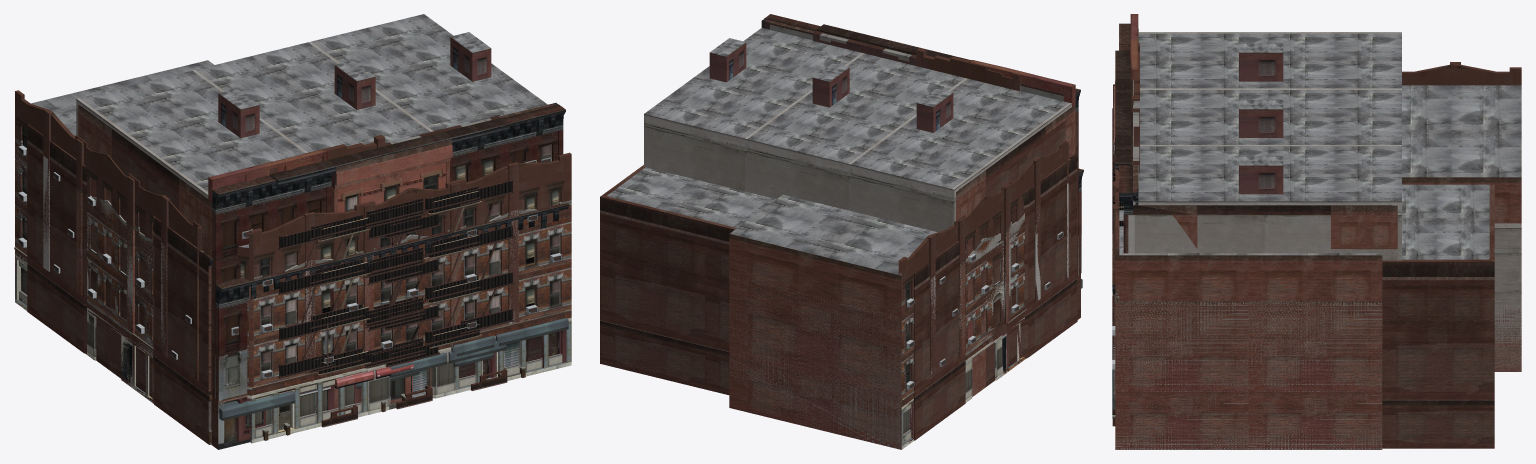
File: brownstones.glb
3 views of the same model, side by side, from view 1: azimuth 30°, elevation 25°; view 2: azimuth 150°, elevation 25°; view 3: azimuth 270°, elevation 25° (orthographic). The views are drawn at different scales.
Parts seen in each view (by area): view 1: Brownstone_FlatFacade_9, Brownstone_Lowrise_1, Brownstone_Lowrise_1_B, Brownstone_Harlem_1_B, Brownstone_FlatFacade_6, Brownstone_FlatFacade_1, Brownstone_FlatFacade_6_B, Brownstone_FlatFacade_4, Brownstone_Lowrise_1_C, Brownstone_FlatFacade_2, Brownstone_FlatFacade_3, Brownstone_FlatFacade_8 (+8 smaller); view 2: Brownstone_Lowrise_1_B, Brownstone_FlatFacade_9, Brownstone_Harlem_1_B, Brownstone_Lowrise_1_C, Brownstone_FlatFacade_1, Brownstone_Lowrise_1, Brownstone_FlatFacade_6, Brownstone_Harlem_1, Brownstone_FlatFacade_5, Brownstone_FlatFacade_3, Brownstone_FlatFacade_2, Brownstone_FlatFacade_6_B; view 3: Brownstone_FlatFacade_9, Brownstone_Lowrise_1, Brownstone_Lowrise_1_B, Brownstone_Harlem_1_B, Brownstone_Lowrise_1_C, Brownstone_FlatFacade_1, Brownstone_FlatFacade_6, Brownstone_FlatFacade_3, Brownstone_FlatFacade_5.
Boxes of the visible parts, x1,y1,x2,y2 form: Brownstone_FlatFacade_9: [76, 14, 547, 418]; Brownstone_Lowrise_1: [15, 137, 571, 443]; Brownstone_Lowrise_1_B: [14, 60, 571, 442]; Brownstone_Harlem_1_B: [27, 124, 525, 444]; Brownstone_FlatFacade_6: [81, 104, 568, 447]; Brownstone_FlatFacade_1: [78, 32, 557, 436]; Brownstone_FlatFacade_6_B: [215, 203, 569, 449]; Brownstone_FlatFacade_4: [331, 139, 452, 408]; Brownstone_Lowrise_1_C: [14, 139, 571, 438]; Brownstone_FlatFacade_2: [317, 105, 548, 375]; Brownstone_FlatFacade_3: [270, 117, 509, 368]; Brownstone_FlatFacade_8: [365, 197, 424, 365]; Brownstone_Lowrise_1_B: [729, 140, 1068, 449]; Brownstone_FlatFacade_9: [644, 28, 1071, 232]; Brownstone_Harlem_1_B: [600, 153, 1078, 440]; Brownstone_Lowrise_1_C: [729, 183, 1068, 449]; Brownstone_FlatFacade_1: [709, 19, 1075, 396]; Brownstone_Lowrise_1: [901, 218, 1063, 449]; Brownstone_FlatFacade_6: [764, 14, 1080, 388]; Brownstone_Harlem_1: [705, 222, 734, 394]; Brownstone_FlatFacade_5: [813, 30, 1020, 91]; Brownstone_FlatFacade_3: [816, 24, 970, 60]; Brownstone_FlatFacade_2: [770, 21, 1063, 101]; Brownstone_FlatFacade_6_B: [1078, 168, 1083, 319]; Brownstone_FlatFacade_9: [1112, 32, 1401, 359]; Brownstone_Lowrise_1: [1112, 285, 1521, 449]; Brownstone_Lowrise_1_B: [1112, 62, 1521, 449]; Brownstone_Harlem_1_B: [1112, 184, 1494, 448]; Brownstone_Lowrise_1_C: [1113, 223, 1521, 449]; Brownstone_FlatFacade_1: [1112, 14, 1397, 338]; Brownstone_FlatFacade_6: [1112, 23, 1392, 409]; Brownstone_FlatFacade_3: [1115, 50, 1131, 170]; Brownstone_FlatFacade_5: [1114, 42, 1139, 172].
Bounding box in the file's own units: 30.69 × 22.77 × 30.68.
10 materials, 10 textured.
